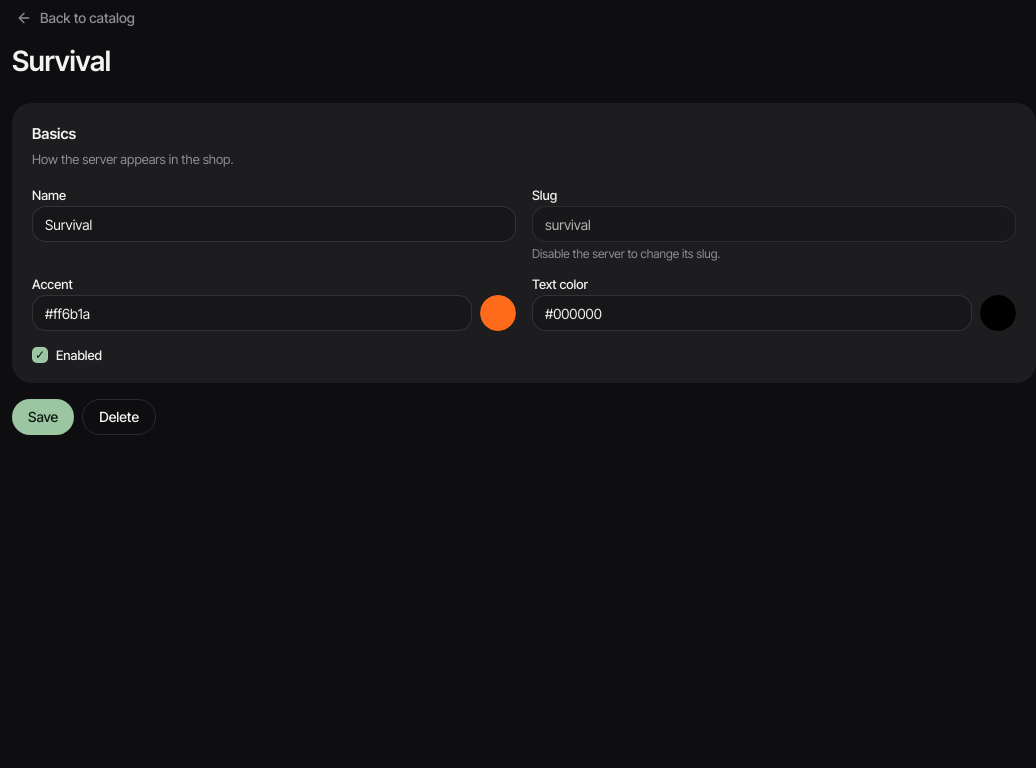
Test: ServerEditor › shows a refused save other than 409 as an error toast
The width and height of the screenshot is (1036, 768).
Replace the text in the field labelled "Name" with "Survival+": (274, 224) [32,206,516,242]
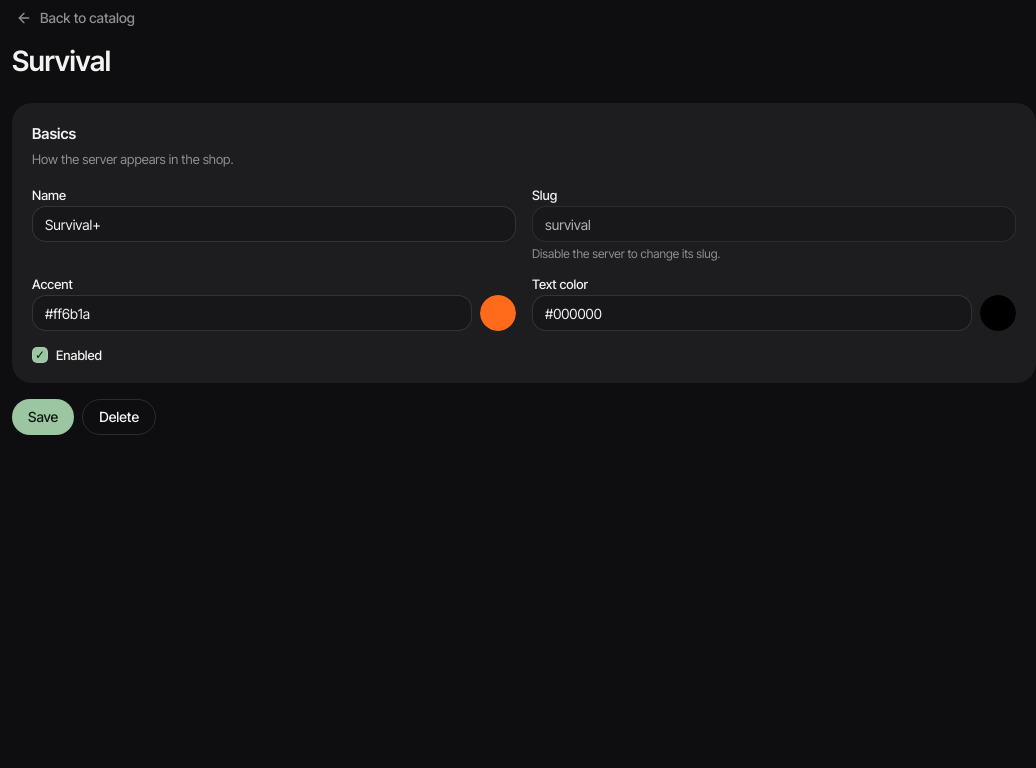
Click the button "Save": (43, 417) [12,399,74,435]
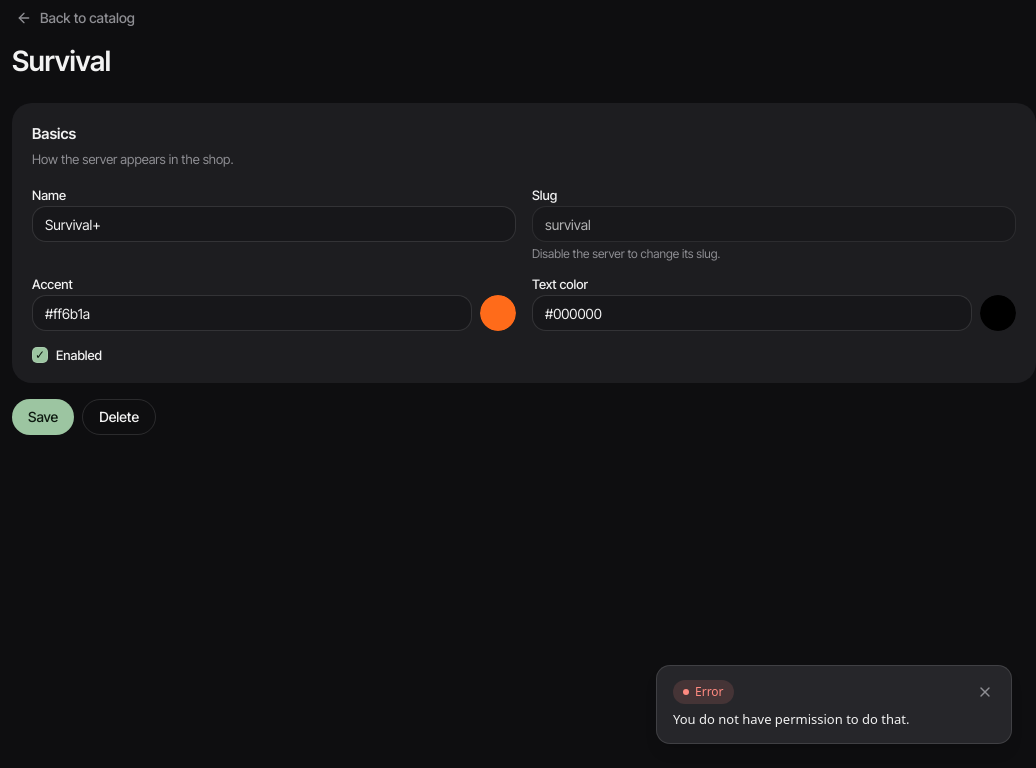
Now the number of messages is 1, box [656,664,1012,744]
